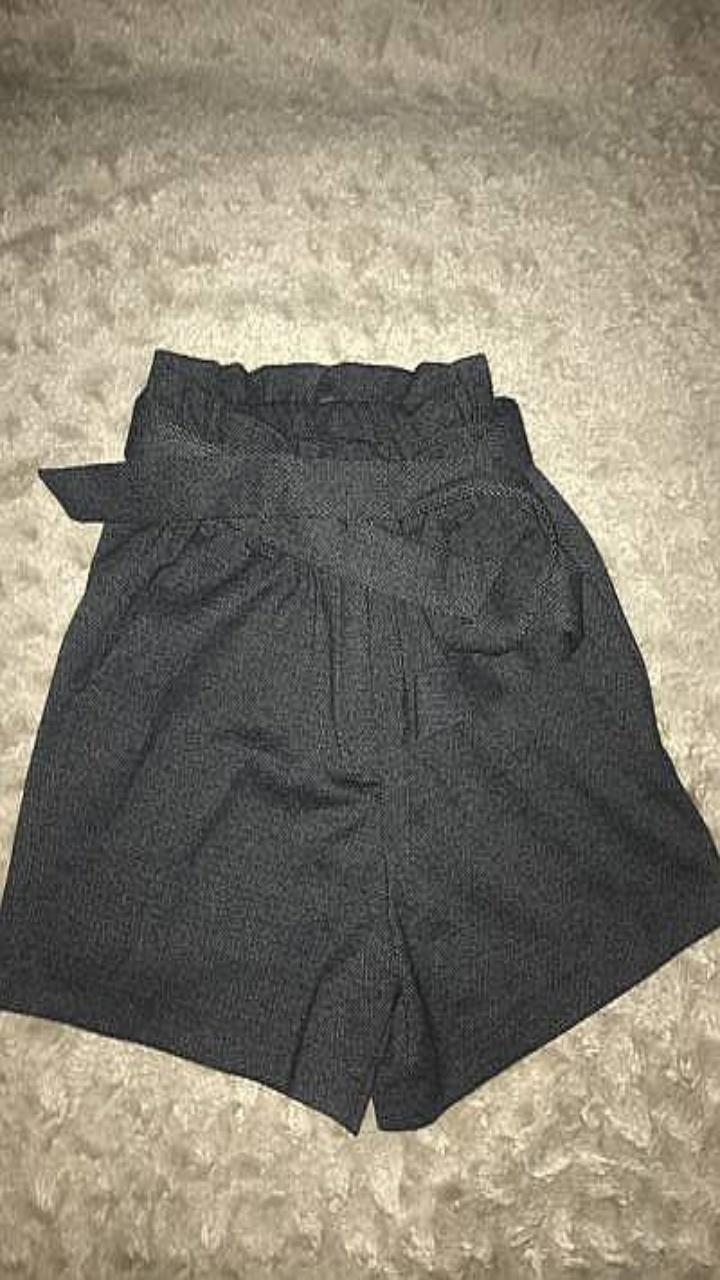Shorts: (0, 349, 719, 1133)
